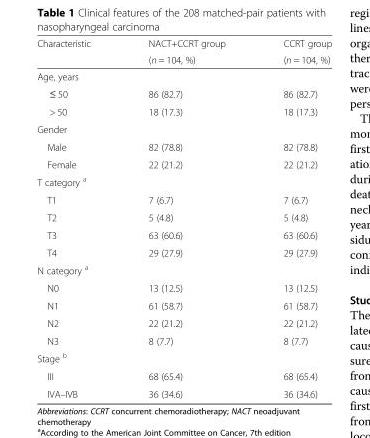table: (36, 37, 331, 399)
table column: (118, 37, 253, 399), (36, 37, 118, 399), (253, 37, 331, 399)
table column header: (36, 37, 331, 67)
table projected row header: (36, 348, 331, 367), (36, 172, 331, 190), (36, 260, 331, 278), (36, 67, 331, 84), (36, 120, 331, 137)
table row: (36, 348, 331, 367), (36, 84, 331, 102), (36, 102, 331, 120), (36, 137, 331, 155), (36, 172, 331, 190), (36, 190, 331, 208), (36, 208, 331, 226), (36, 260, 331, 278), (36, 278, 331, 296), (36, 296, 331, 314), (36, 67, 331, 84), (36, 120, 331, 137), (36, 155, 331, 172), (36, 226, 331, 243), (36, 243, 331, 260), (36, 314, 331, 331), (36, 331, 331, 348), (36, 367, 331, 384), (36, 51, 331, 67), (36, 384, 331, 399), (36, 37, 331, 51)
table spanning cell: (118, 37, 253, 67), (36, 37, 118, 67), (253, 37, 331, 67)
